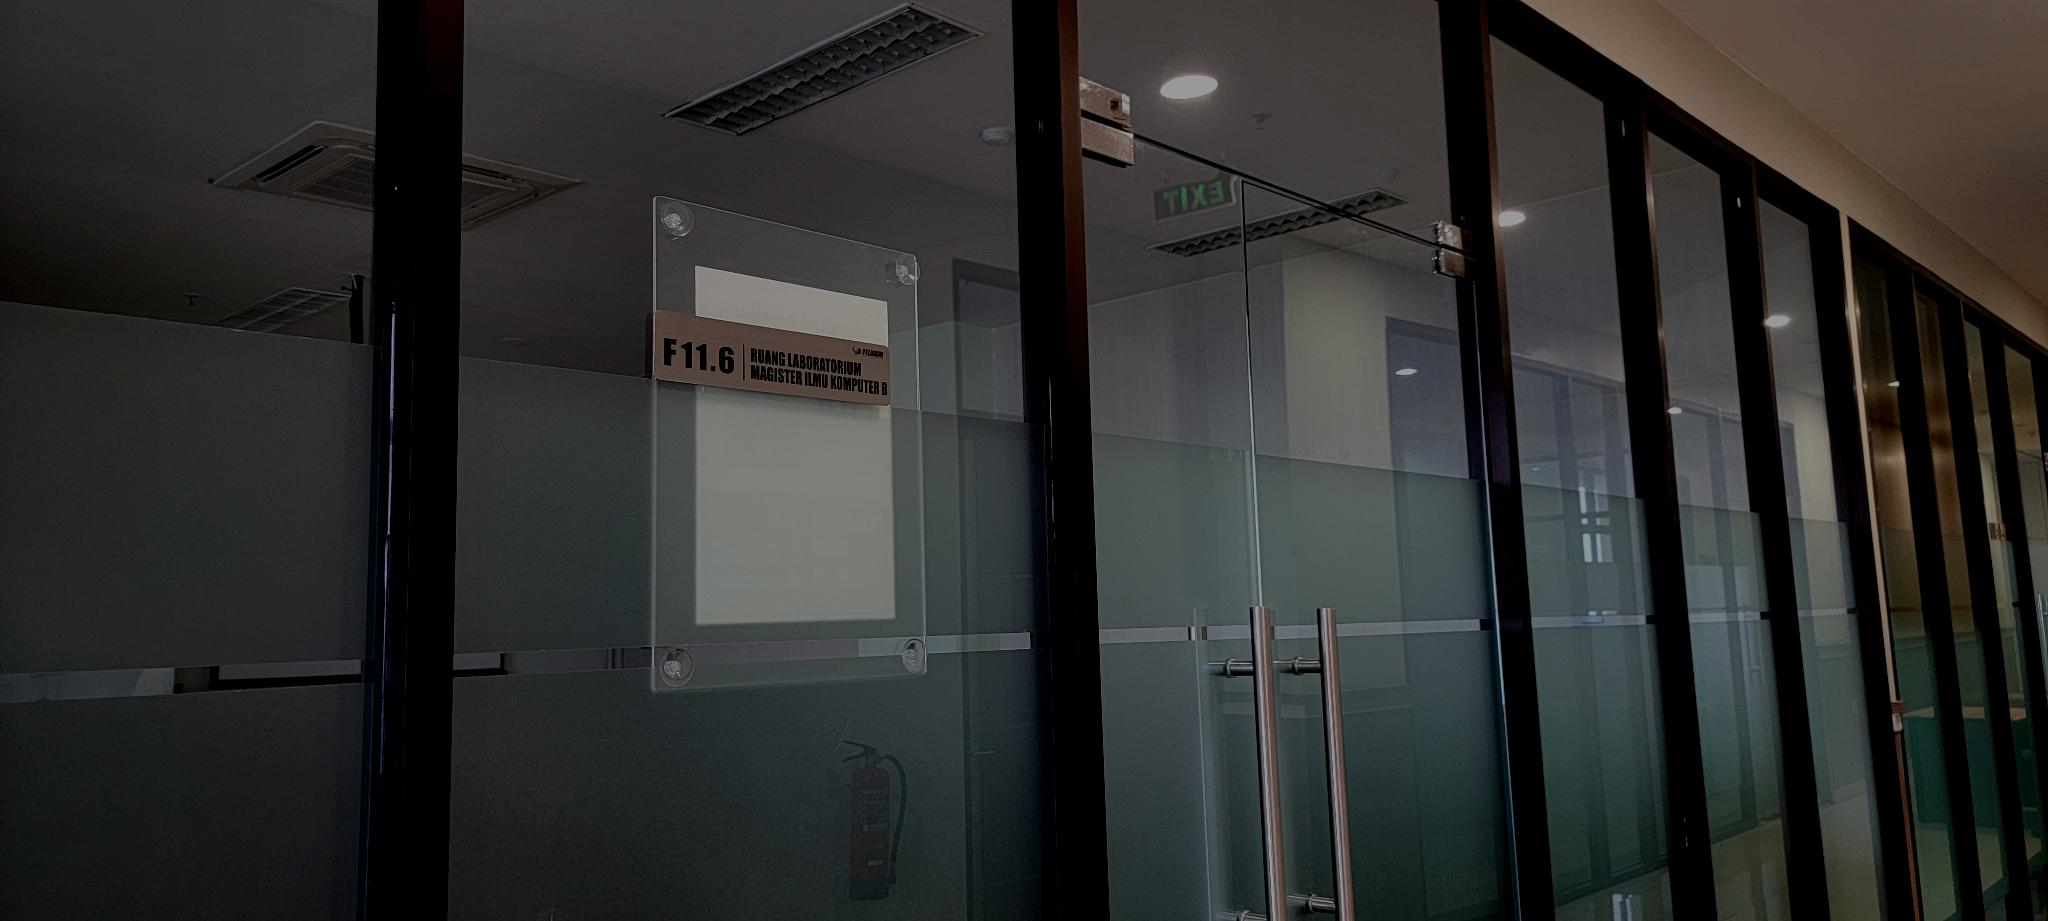plate: (650, 304, 893, 409)
